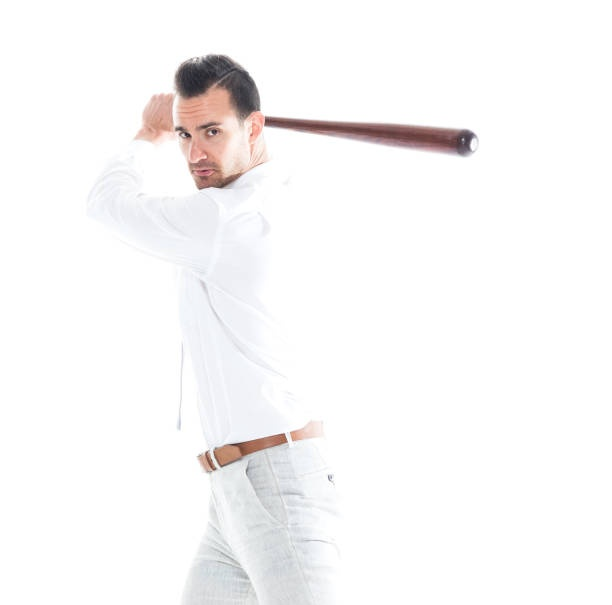bita: (265, 106, 487, 155)
